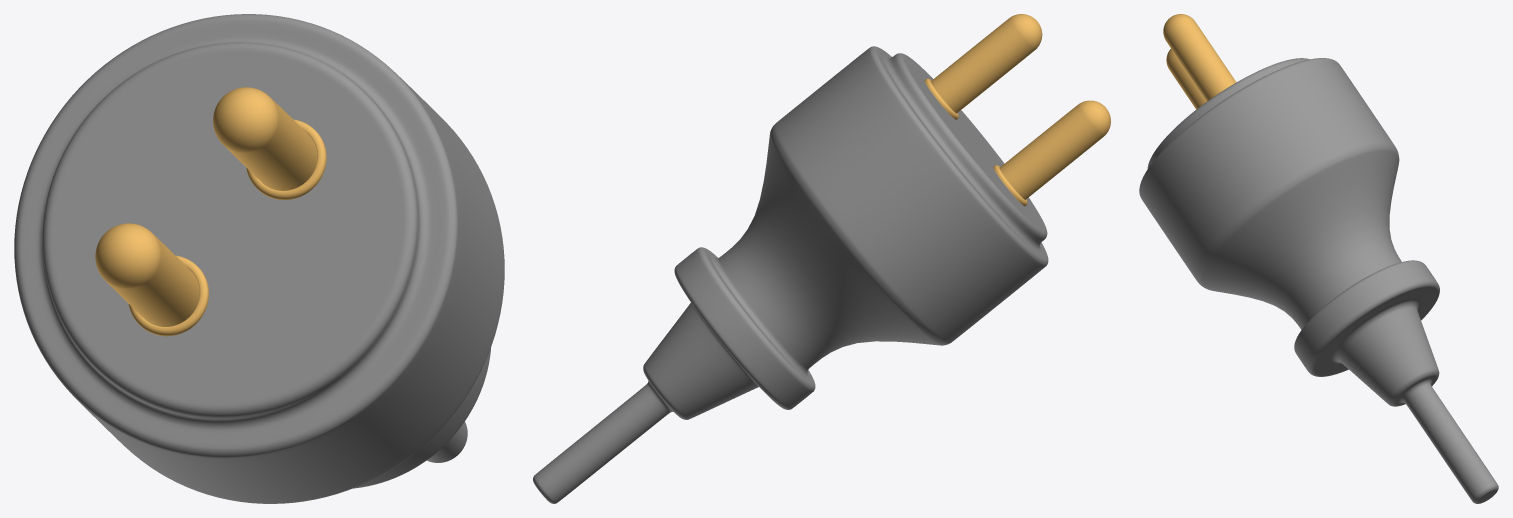
File: electrica.fbx
3 renders of one model, left to right at view 1: azimuth 30°, elevation 25°; view 2: azimuth 150°, elevation 25°; view 3: azimuth 270°, elevation 25°, orthographic. The views are drawn at different scales.
Visible parts, largest first — view 1: Power Plug, Cylinder.003; view 2: Power Plug, Cylinder.003; view 3: Power Plug, Cylinder.003.
Boxes of the visible parts, box(x1,y1,x2,y2) form: Power Plug: box(14, 14, 504, 503); Cylinder.003: box(95, 87, 326, 336); Power Plug: box(533, 46, 1048, 503); Cylinder.003: box(924, 14, 1110, 206); Power Plug: box(1139, 58, 1498, 503); Cylinder.003: box(1163, 14, 1236, 109).
Size of the model in its own units: 287 by 294 by 262.
